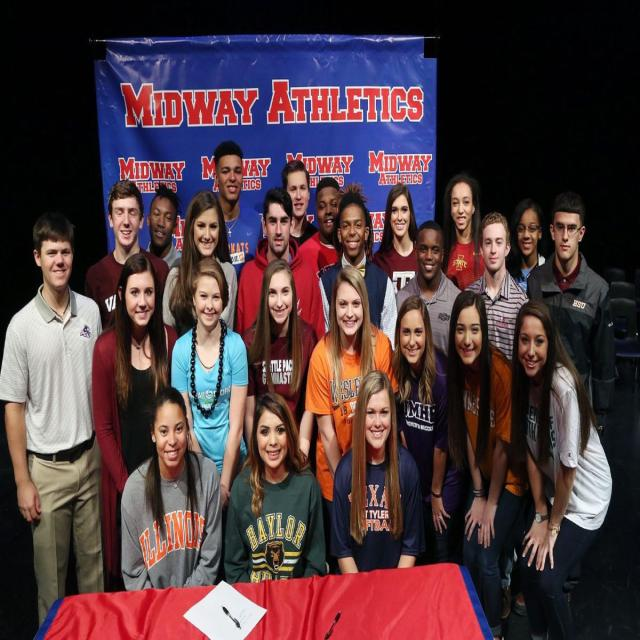body: (0, 204, 110, 639), (506, 299, 612, 640), (444, 288, 530, 640), (91, 252, 178, 594), (303, 264, 402, 518), (524, 193, 617, 448), (119, 384, 223, 593), (223, 391, 327, 585), (168, 258, 250, 504), (328, 370, 423, 575), (390, 294, 460, 564), (242, 256, 320, 463), (235, 184, 328, 344), (316, 182, 400, 354), (81, 178, 171, 331), (161, 187, 238, 338), (461, 210, 531, 363), (394, 218, 464, 362), (213, 138, 263, 280), (370, 182, 420, 297), (440, 173, 486, 290), (296, 175, 344, 283), (508, 199, 549, 294), (144, 181, 183, 270), (282, 158, 321, 247)
